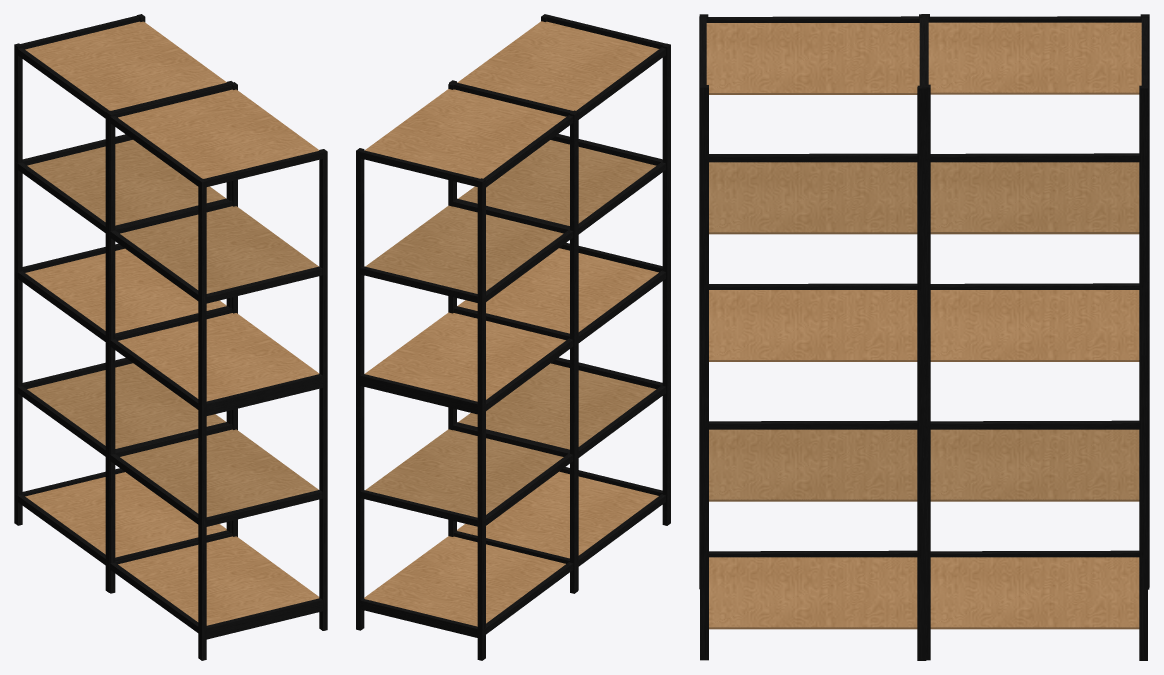
The model's file is akvaryum_rafi_ikili.glb.
3 views of the same model, side by side, from view 1: azimuth 30°, elevation 25°; view 2: azimuth 150°, elevation 25°; view 3: azimuth 270°, elevation 25° (orthographic). The views are drawn at different scales.
Visible parts, largest first — view 1: prisma-m14, prisma-m32, prisma-m56, prisma-m68, prisma-m54, prisma-m18, prisma-m0, prisma-m36, prisma-m38, prisma-m2, prisma-m64, prisma-m28 (+37 smaller); view 2: prisma-m32, prisma-m14, prisma-m38, prisma-m2, prisma-m0, prisma-m36, prisma-m18, prisma-m54, prisma-m56, prisma-m68, prisma-m64 (×2), prisma-m48 (×2) (+33 smaller); view 3: prisma-m14, prisma-m32, prisma-m36, prisma-m38, prisma-m0, prisma-m54, prisma-m56, prisma-m18, prisma-m68, prisma-m2, prisma-m66, prisma-m67 (+17 smaller).
Boxes of the visible parts, left/top/right/bottom form: prisma-m14: left=25, top=21, right=226, bottom=110; prisma-m32: left=118, top=89, right=319, bottom=178; prisma-m56: left=118, top=536, right=319, bottom=625; prisma-m68: left=118, top=313, right=319, bottom=401; prisma-m54: left=120, top=429, right=318, bottom=516; prisma-m18: left=120, top=206, right=318, bottom=293; prisma-m0: left=27, top=140, right=225, bottom=225; prisma-m36: left=27, top=363, right=225, bottom=448; prisma-m38: left=25, top=472, right=226, bottom=557; prisma-m2: left=25, top=248, right=226, bottom=333; prisma-m64: left=198, top=403, right=206, bottom=660; prisma-m28: left=198, top=178, right=206, bottom=437; prisma-m32: left=457, top=21, right=658, bottom=110; prisma-m14: left=365, top=89, right=566, bottom=178; prisma-m38: left=364, top=536, right=565, bottom=626; prisma-m2: left=365, top=312, right=565, bottom=401; prisma-m0: left=365, top=205, right=563, bottom=293; prisma-m36: left=365, top=429, right=563, bottom=517; prisma-m18: left=458, top=140, right=656, bottom=225; prisma-m54: left=458, top=363, right=656, bottom=449; prisma-m56: left=457, top=471, right=658, bottom=558; prisma-m68: left=457, top=248, right=658, bottom=333; prisma-m64 (×2): left=662, top=268, right=670, bottom=525; prisma-m48 (×2): left=356, top=373, right=364, bottom=630; prisma-m14: left=928, top=22, right=1141, bottom=94; prisma-m32: left=706, top=23, right=919, bottom=94; prisma-m36: left=930, top=429, right=1139, bottom=501; prisma-m38: left=930, top=557, right=1139, bottom=629; prisma-m0: left=930, top=162, right=1139, bottom=234; prisma-m54: left=709, top=429, right=917, bottom=501; prisma-m56: left=709, top=557, right=917, bottom=629; prisma-m18: left=709, top=162, right=917, bottom=234; prisma-m68: left=709, top=290, right=917, bottom=361; prisma-m2: left=930, top=290, right=1139, bottom=361; prisma-m66: left=917, top=355, right=926, bottom=660; prisma-m67: left=700, top=355, right=708, bottom=660.
Size of the model in its own units: 0.8277 by 2.98 by 2.12.
3 materials, 3 textured.
